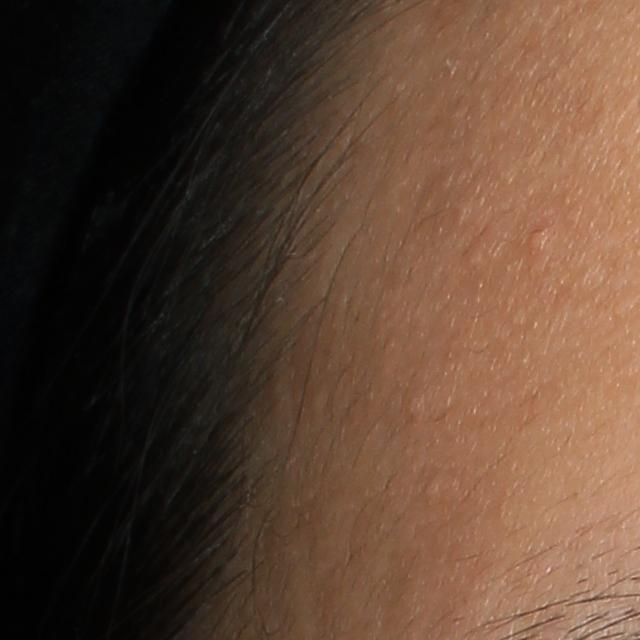comedo: (527, 227, 545, 249)
